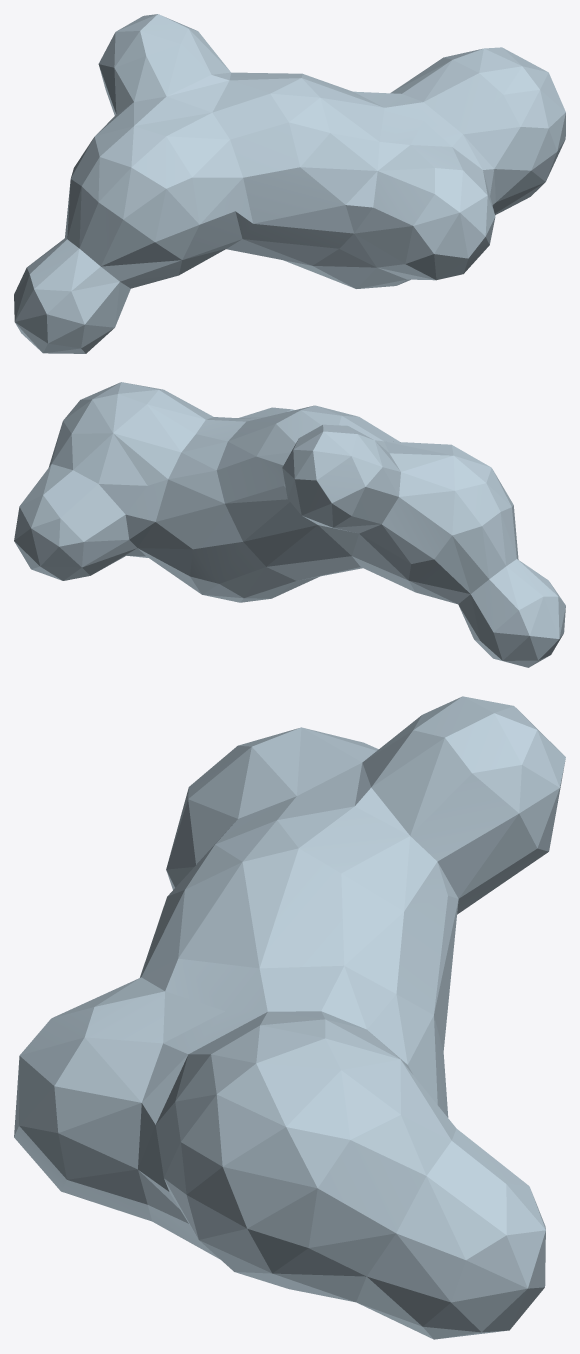
File: medium_cloud_3.fbx
3 renders of one model, top to bottom at view 1: azimuth 30°, elevation 25°; view 2: azimuth 150°, elevation 25°; view 3: azimuth 270°, elevation 25°, orthographic. The views are drawn at different scales.
Parts seen in each view (by area): view 1: cloud_53; view 2: cloud_53; view 3: cloud_53.
Boxes of the visible parts, left/top/right/bottom form: cloud_53: left=14, top=14, right=565, bottom=353; cloud_53: left=14, top=382, right=565, bottom=667; cloud_53: left=14, top=696, right=565, bottom=1339.
Bounding box in the file's own units: 593 × 271 × 319.
